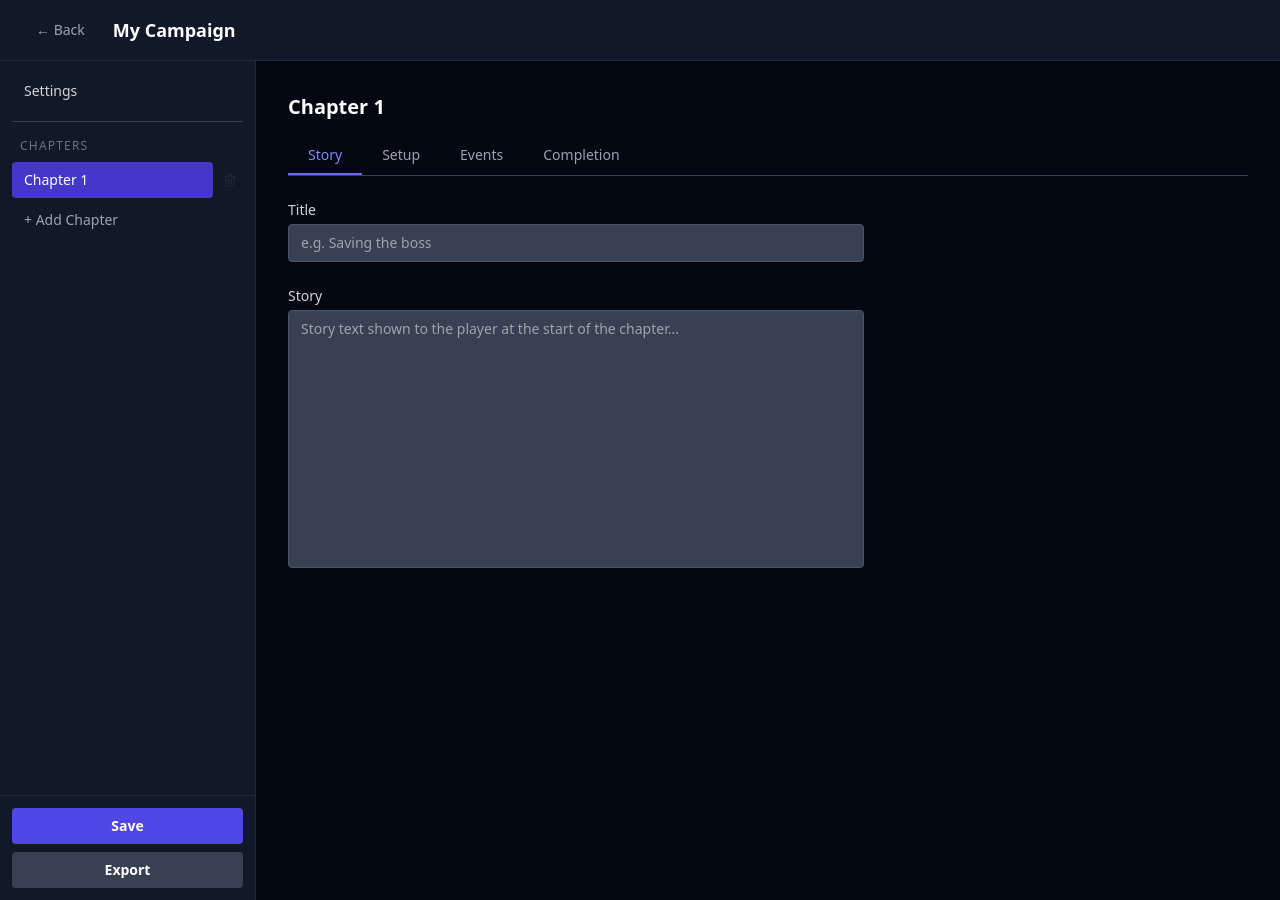
it: CreatorPage › Save button shows Saved confirmation when clicked
Click the button "Save" at (128, 826), box [12, 808, 243, 844]
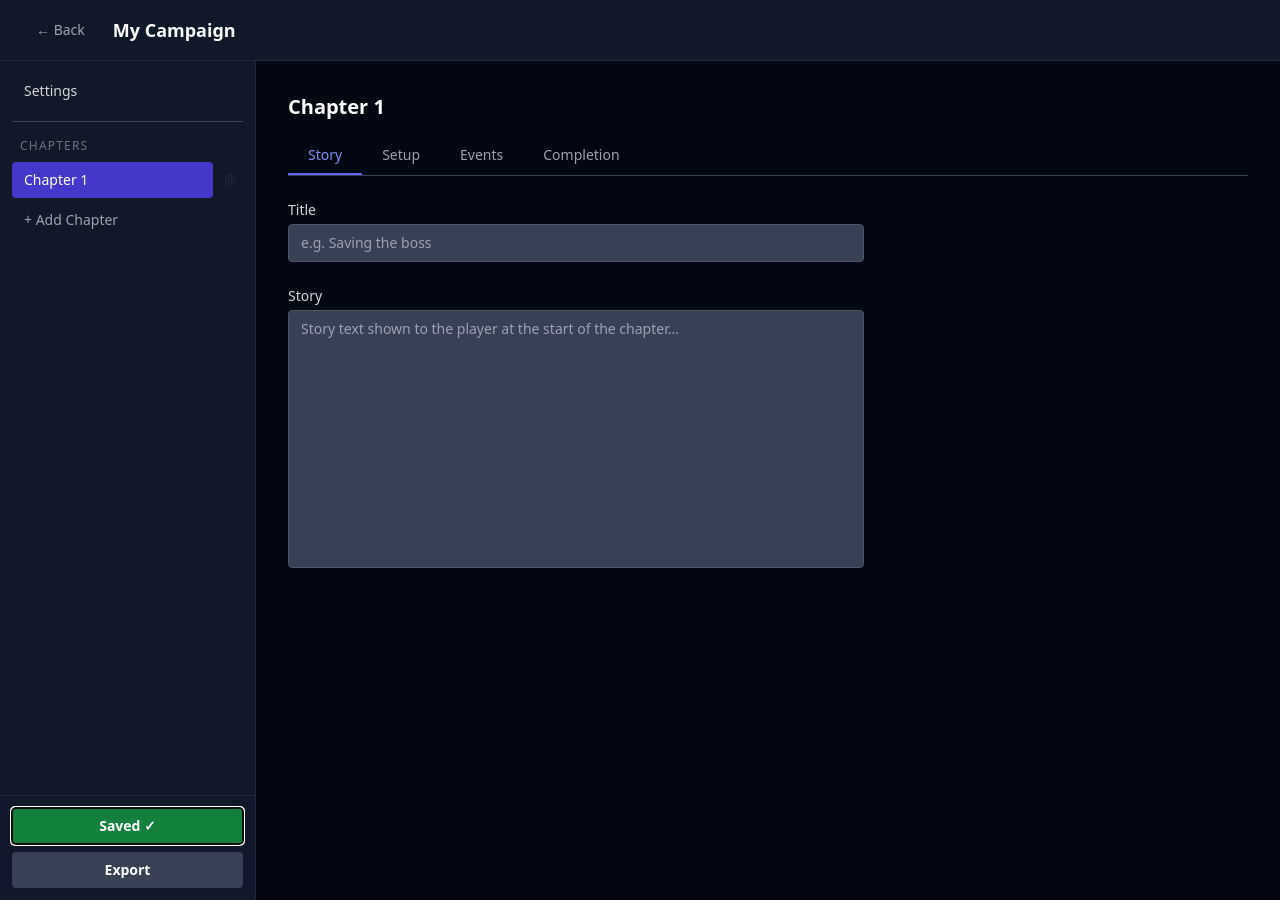
Check: the button "Saved ✓" is shown, box [12, 808, 243, 844]
